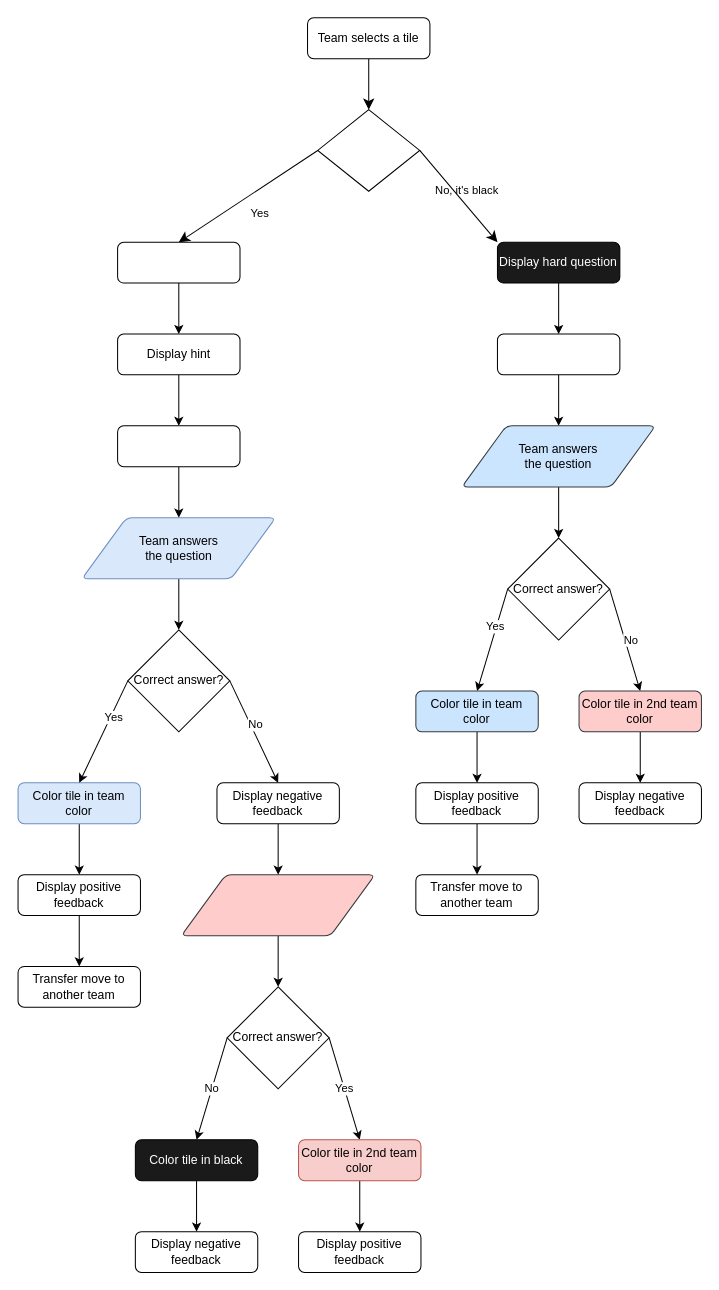
This 719x1290 diagram has some shape labels left out. Each missing label, with the centre of its shape:
2nd team answers the question: (x=277, y=905)
Display regular question: (x=178, y=262)
Display text input and submit button: (x=178, y=446)
Display yes/no buttons: (x=558, y=354)
Is the tile empty?: (x=368, y=150)
